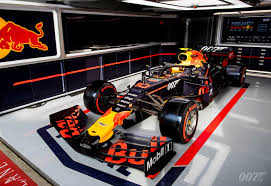FormulaOneCar: (42, 43, 252, 179)
